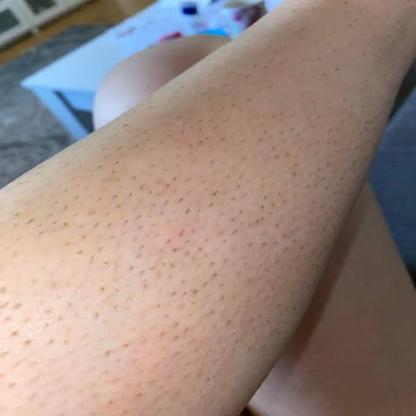Chicken Skin: (15, 177, 237, 409), (168, 76, 319, 262)
